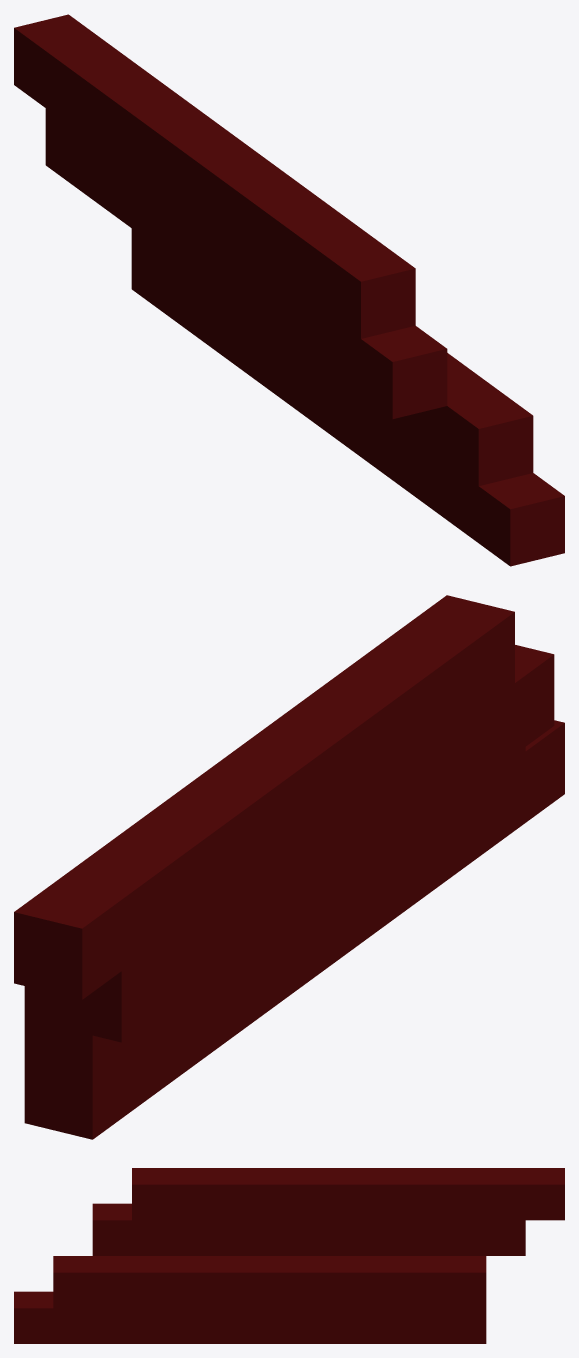
Rendered from Extra-12-RedFighter_WingTip_R.obj.
3 renders of one model, top to bottom at view 1: azimuth 30°, elevation 25°; view 2: azimuth 150°, elevation 25°; view 3: azimuth 270°, elevation 25°, orthographic. The views are drawn at different scales.
Parts seen in each view (by area): view 1: RedFighter_WingTip_R; view 2: RedFighter_WingTip_R; view 3: RedFighter_WingTip_R.
Part boxes in pixels (box(x1,y1,x2,y2)): RedFighter_WingTip_R: box(14, 14, 564, 566); RedFighter_WingTip_R: box(14, 595, 564, 1139); RedFighter_WingTip_R: box(14, 1168, 564, 1343).
Bounding box in the file's own units: 0.2 × 0.4 × 1.4.
Materials: 1 (1 with a texture image).
